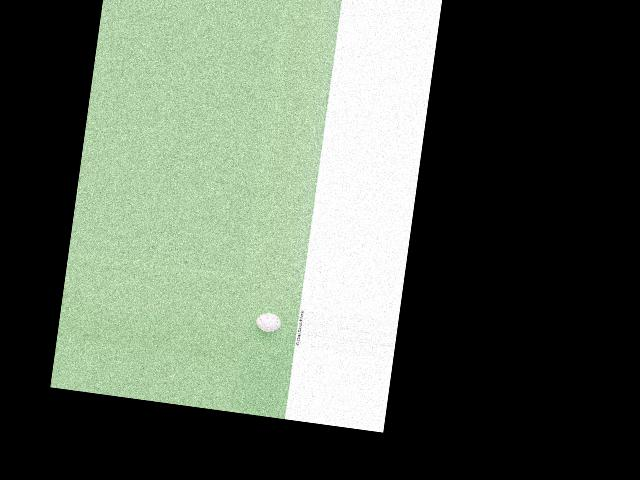egg: (255, 311, 281, 333)
